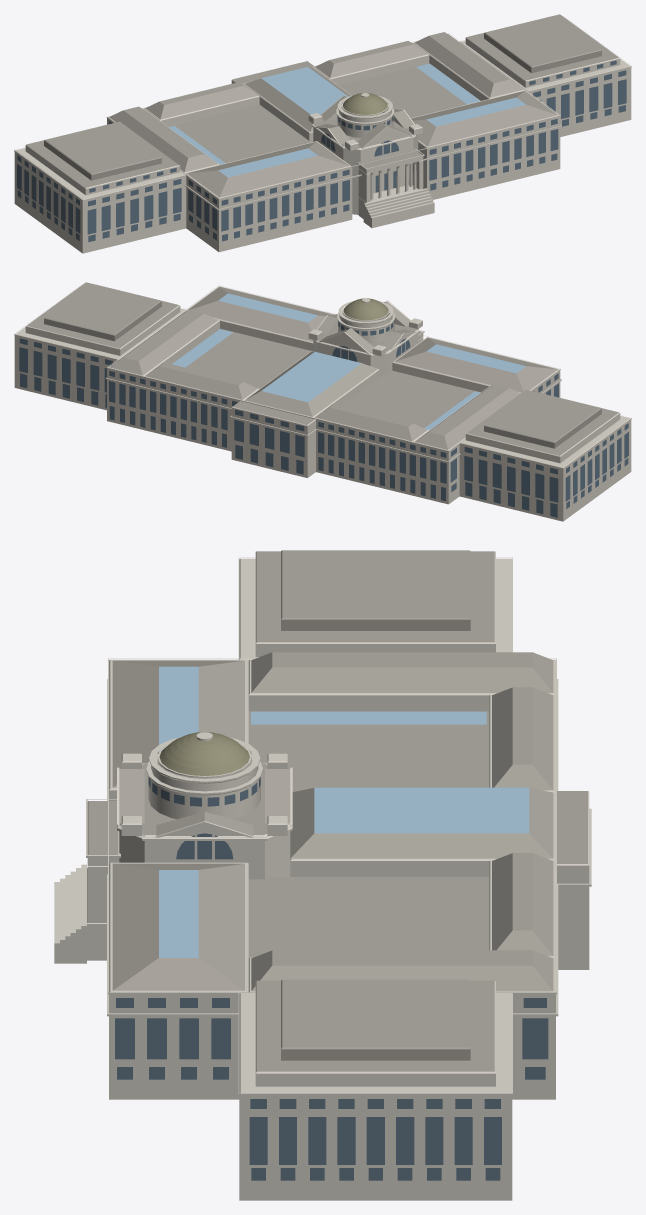
The model's file is detail.glb.
The picture shows the model from 3 angles, top to bottom: view 1: azimuth 30°, elevation 25°; view 2: azimuth 150°, elevation 25°; view 3: azimuth 270°, elevation 25°; orthographic projection. The views are drawn at different scales.
Visible parts, largest first — view 1: national-museum-of-natural-history; view 2: national-museum-of-natural-history; view 3: national-museum-of-natural-history.
Boxes of the visible parts, x1=… form: national-museum-of-natural-history: x1=14, y1=14, x2=631, y2=253; national-museum-of-natural-history: x1=14, y1=282, x2=631, y2=521; national-museum-of-natural-history: x1=54, y1=550, x2=591, y2=1200.
Bounding box in the file's own units: 274 × 47 × 116.
